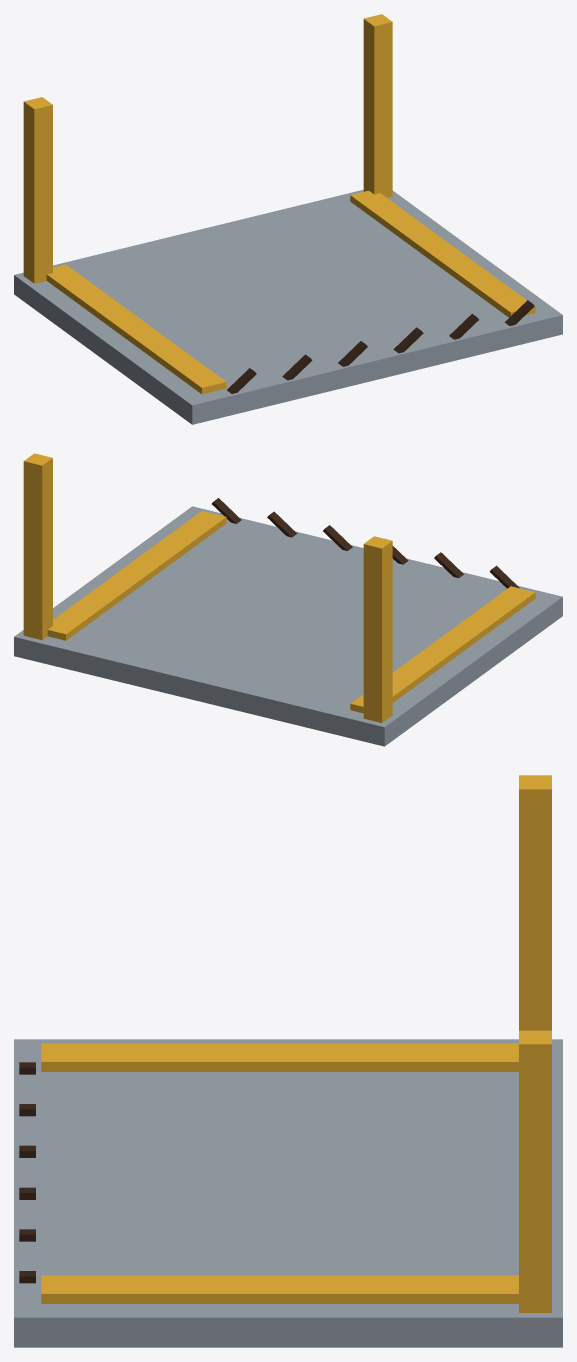
File: f_lift.glb
The picture shows the model from 3 angles, top to bottom: view 1: azimuth 30°, elevation 25°; view 2: azimuth 150°, elevation 25°; view 3: azimuth 270°, elevation 25°; orthographic projection. The views are drawn at different scales.
Visible parts, largest first — view 1: lift; view 2: lift; view 3: lift.
Part boxes in pixels (x1,y1,x2,y2): lift: (14,14,562,424); lift: (14,453,562,746); lift: (14,775,562,1347).
Size of the model in its own units: 2.4 by 1.2 by 2.
